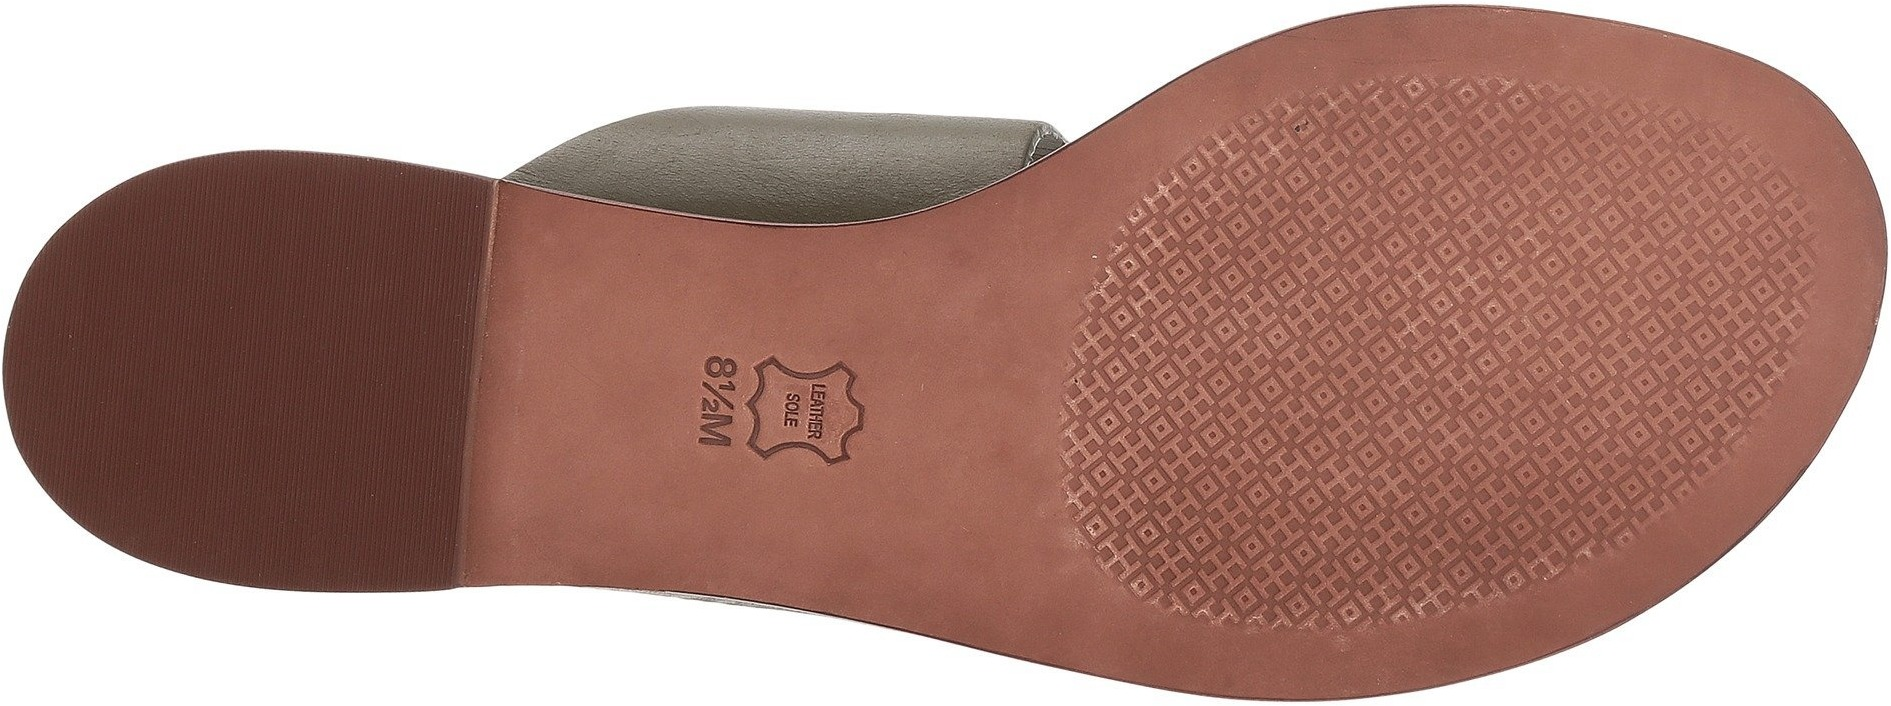other: (213, 167, 466, 424), (31, 278, 210, 455), (215, 426, 364, 576)
text: (666, 319, 880, 525)
